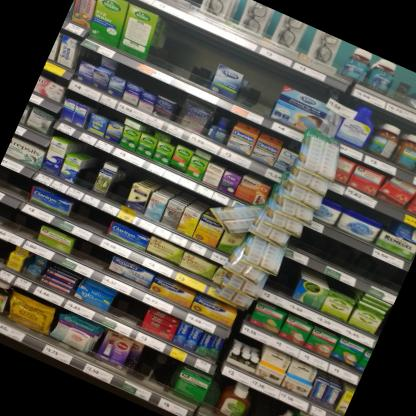empty_space: (296, 221, 411, 302), (150, 19, 230, 100), (230, 54, 285, 123), (125, 344, 176, 405), (0, 196, 42, 250), (64, 200, 112, 245), (103, 292, 147, 339), (67, 240, 112, 282), (0, 166, 31, 208), (232, 391, 283, 416)
